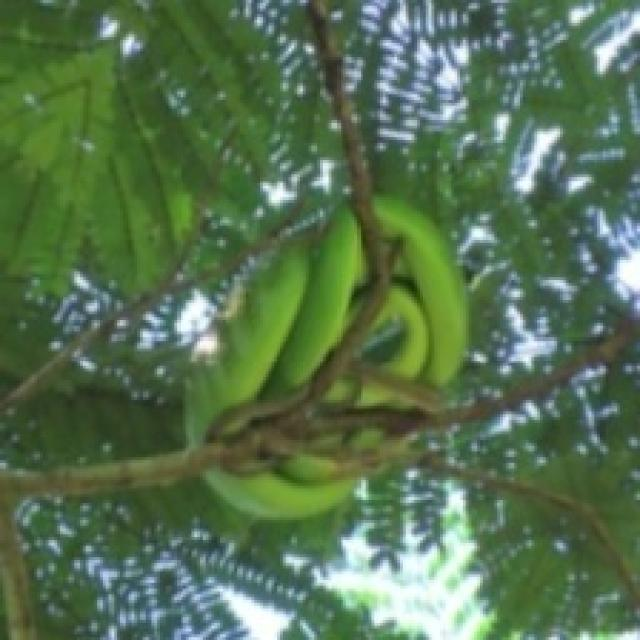red-tailed green ratsnake: (186, 206, 363, 440), (363, 197, 466, 386), (206, 469, 349, 517)
